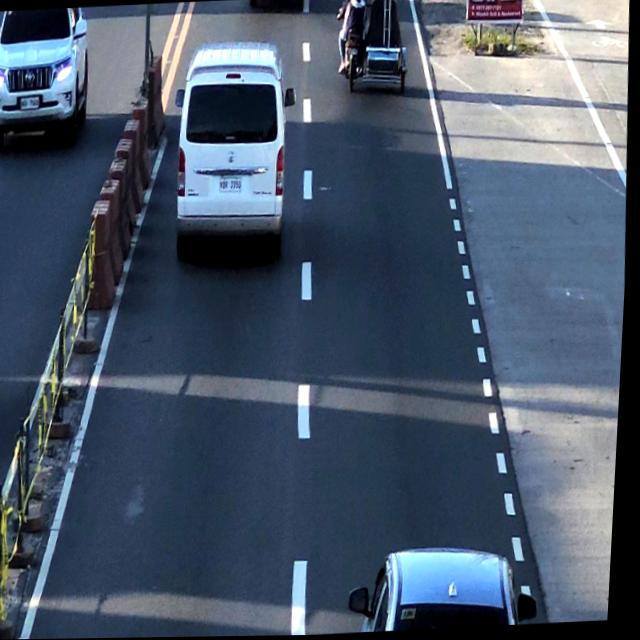Car: (167, 39, 298, 261), (358, 539, 531, 634)
License-Plate: (220, 176, 245, 195)
Tricycle: (326, 0, 416, 96)
